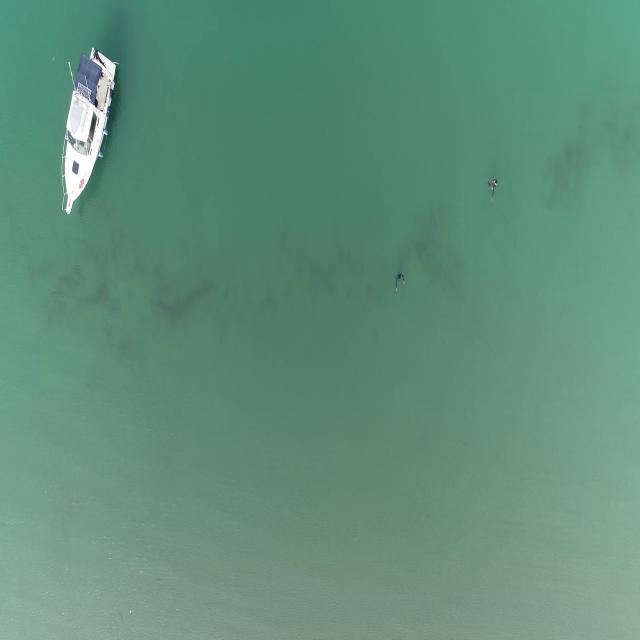boat: (58, 45, 119, 216)
person: (488, 174, 500, 202), (393, 272, 406, 294)
